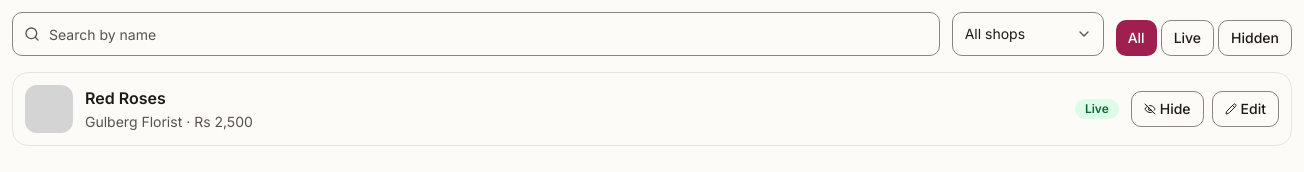
Scenario: ProductList › hides a live product and reloads
Click the button "Hide": (1167, 109) [1131,91,1204,127]
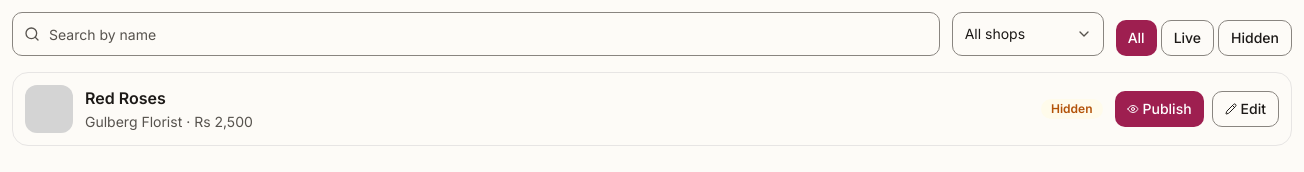
Expected: the button "Publish" is shown, [1114,91,1204,127]
